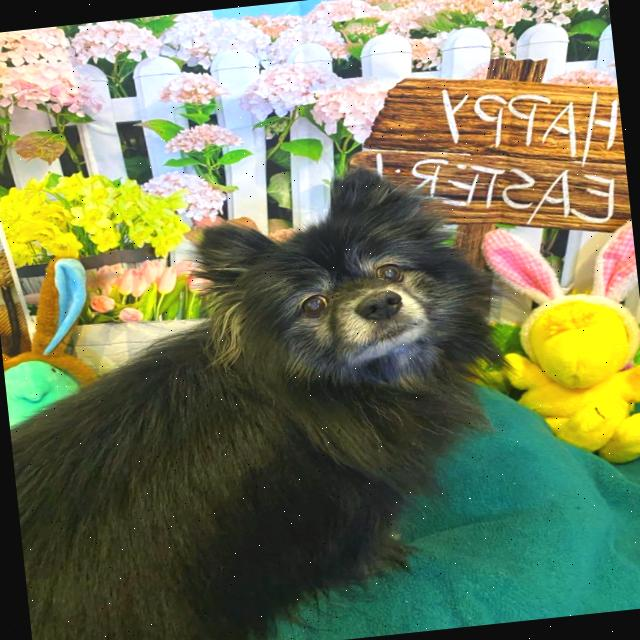pomeranian_dog: (164, 147, 516, 450)
